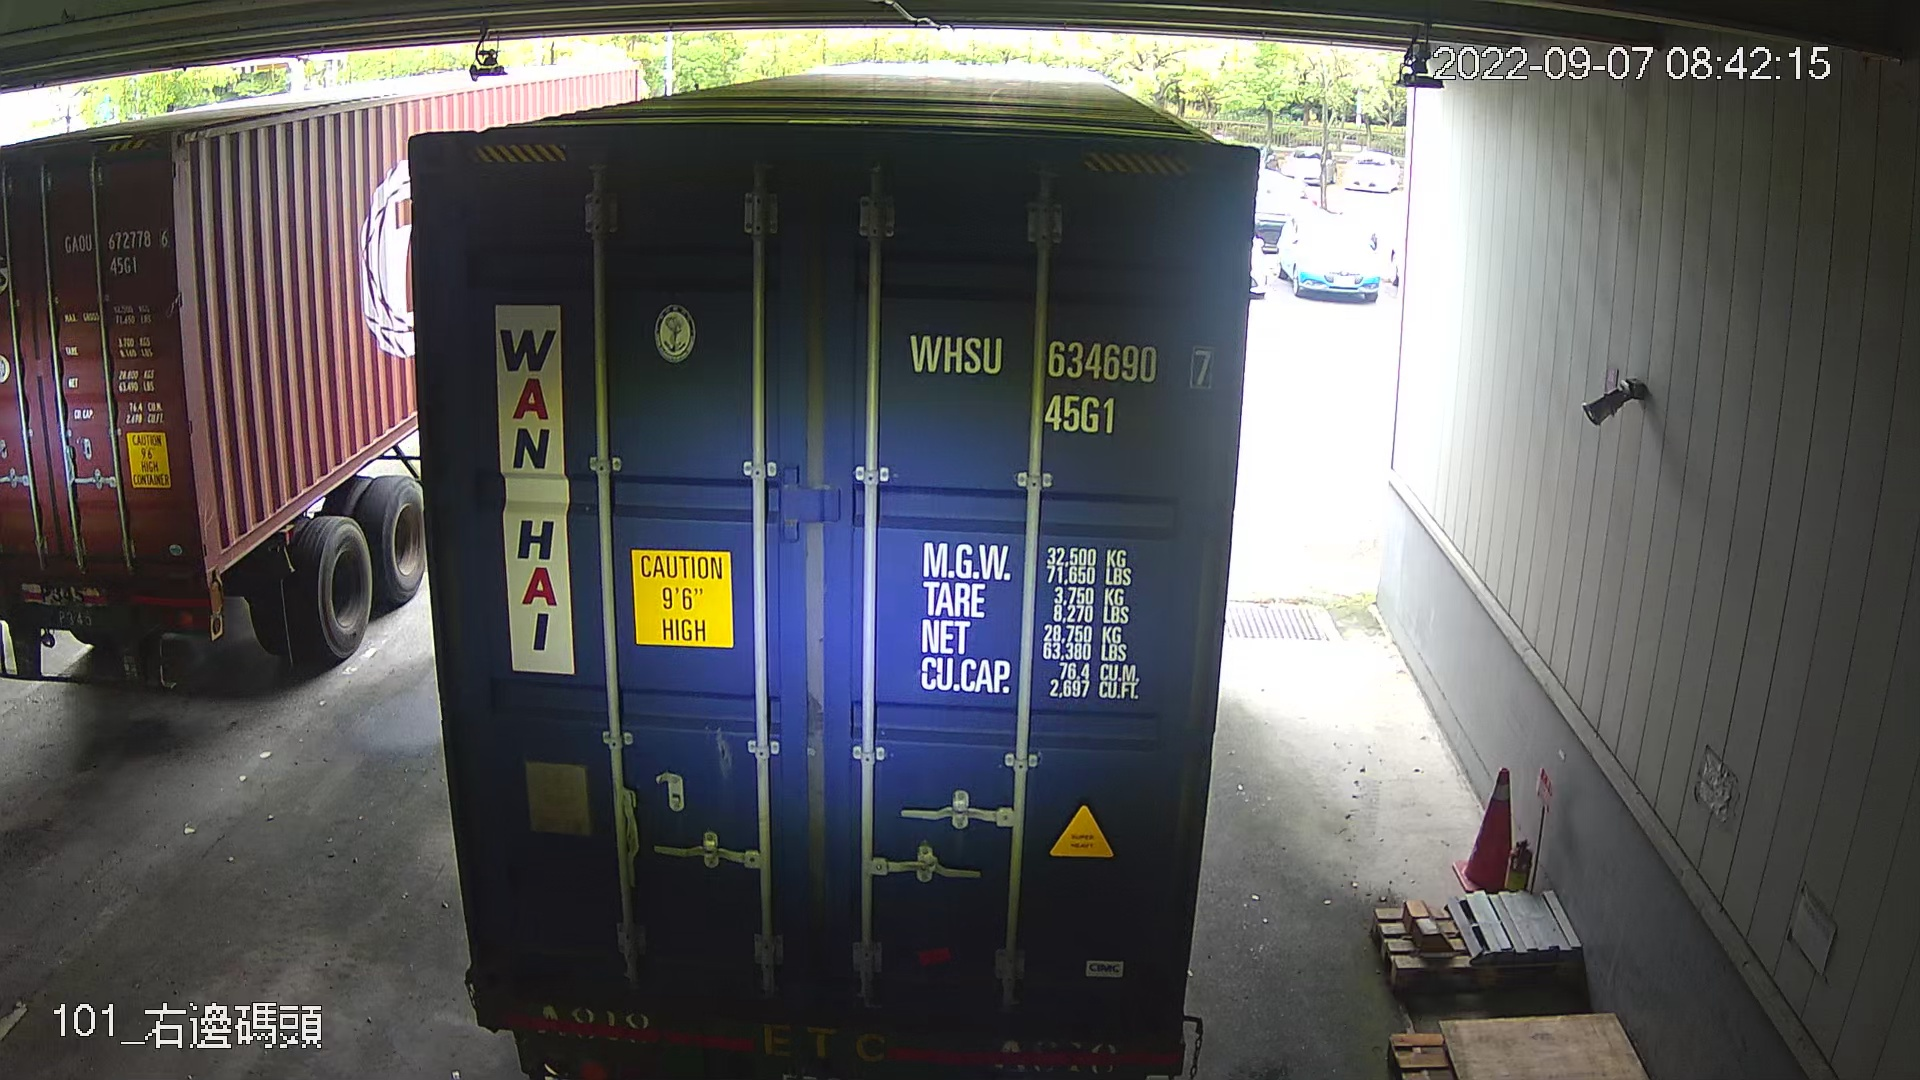container: (895, 314, 1228, 442)
